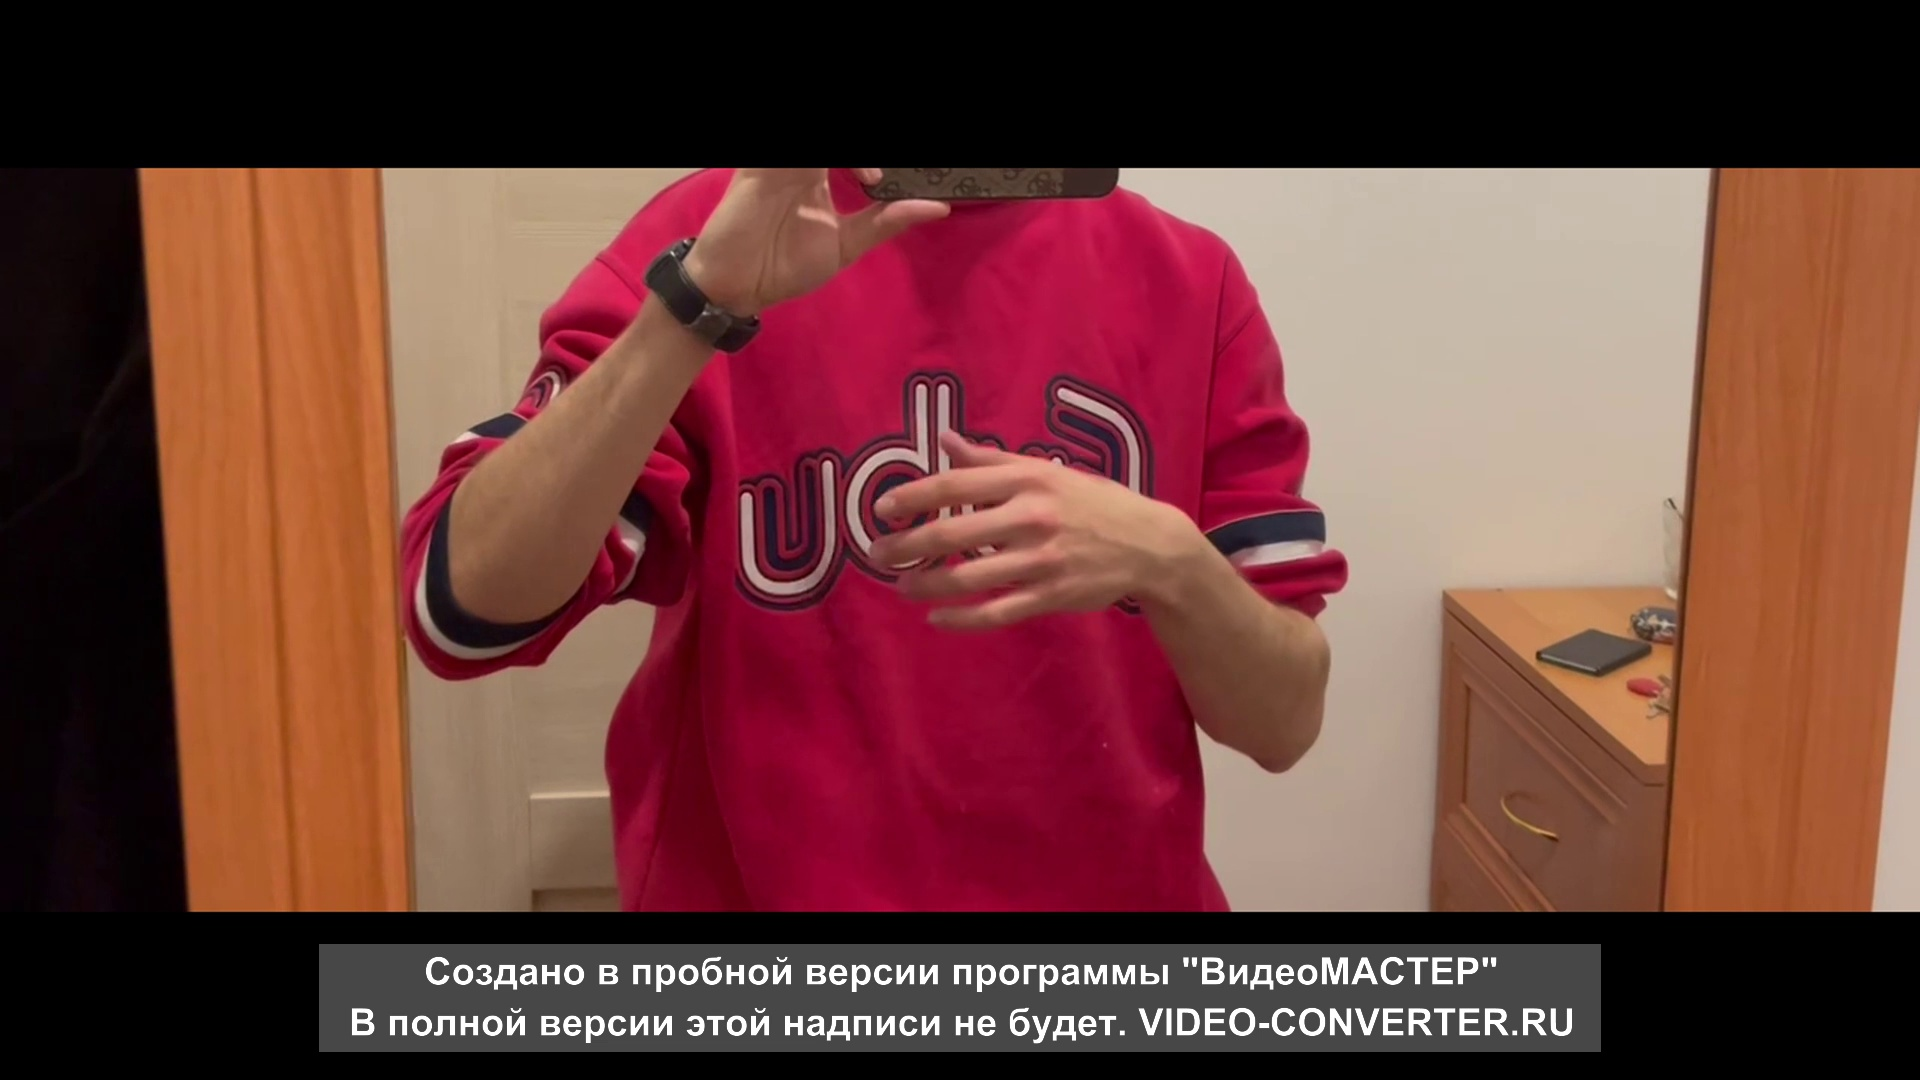Кисть: (874, 430, 1149, 629)
